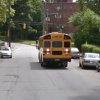Bus: (31, 29, 74, 73)
